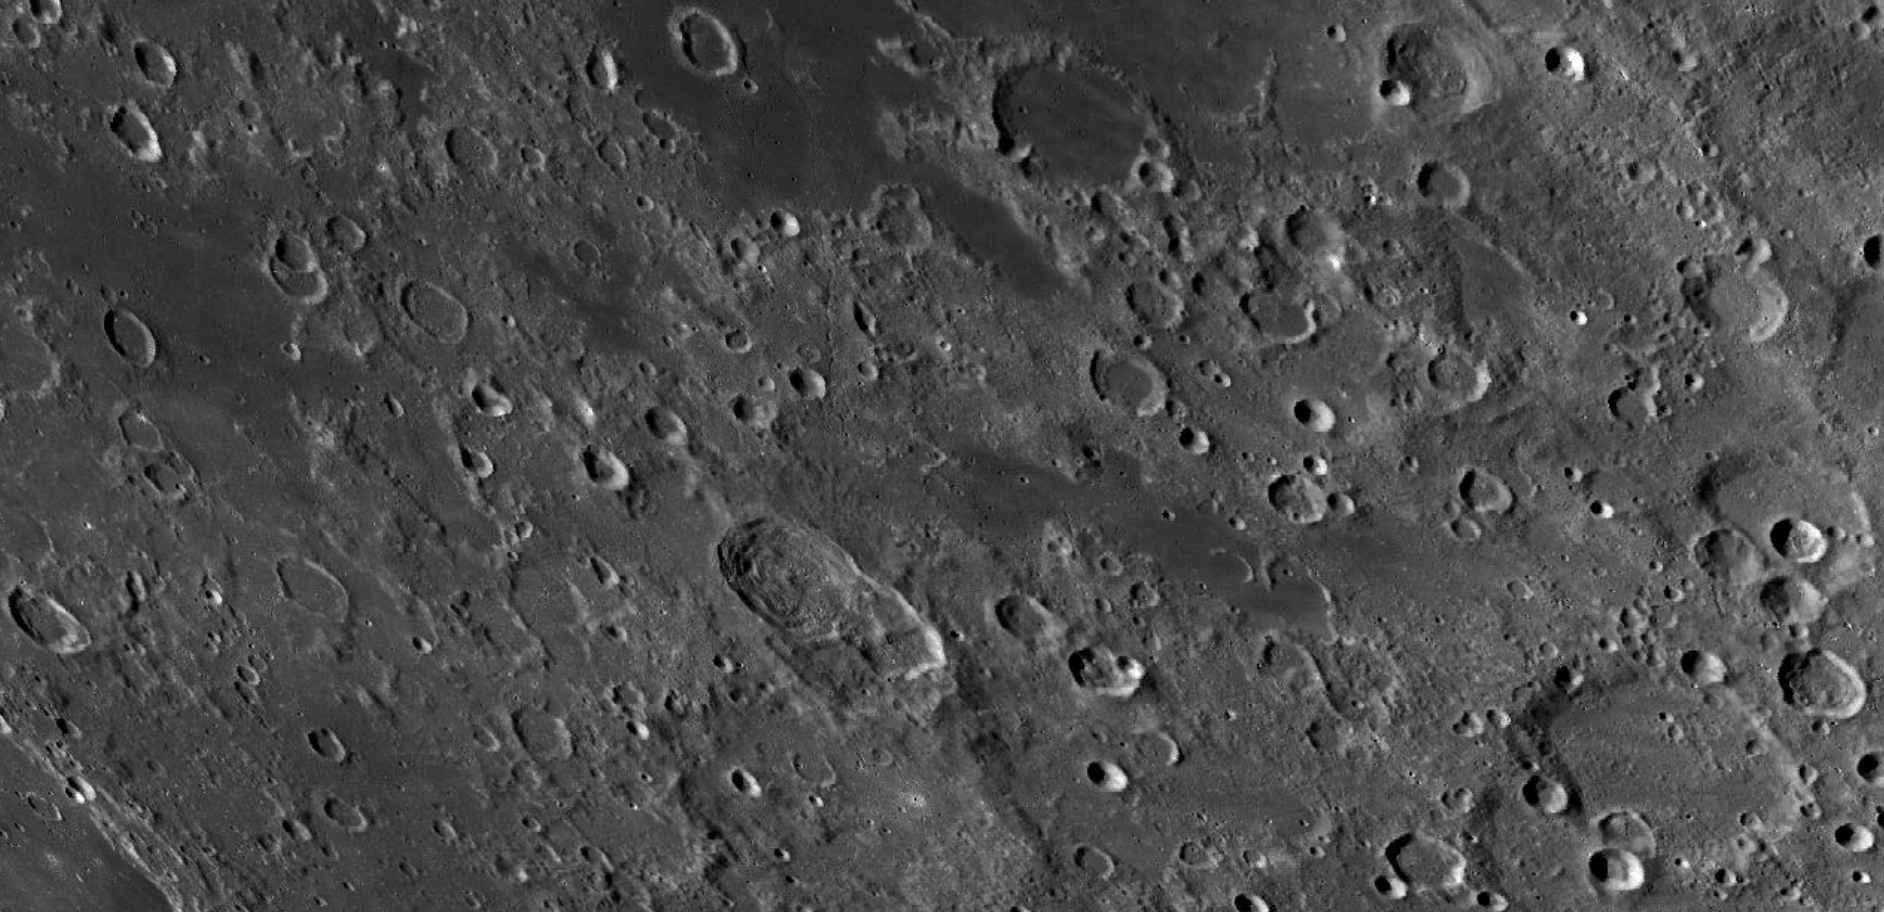crater: (1501, 637, 1823, 892), (906, 8, 1205, 255), (700, 496, 974, 703), (1363, 6, 1516, 150), (1661, 222, 1806, 360), (1068, 326, 1179, 443), (88, 89, 190, 199), (654, 6, 765, 102), (388, 255, 487, 360), (90, 292, 180, 378), (290, 715, 358, 773)
